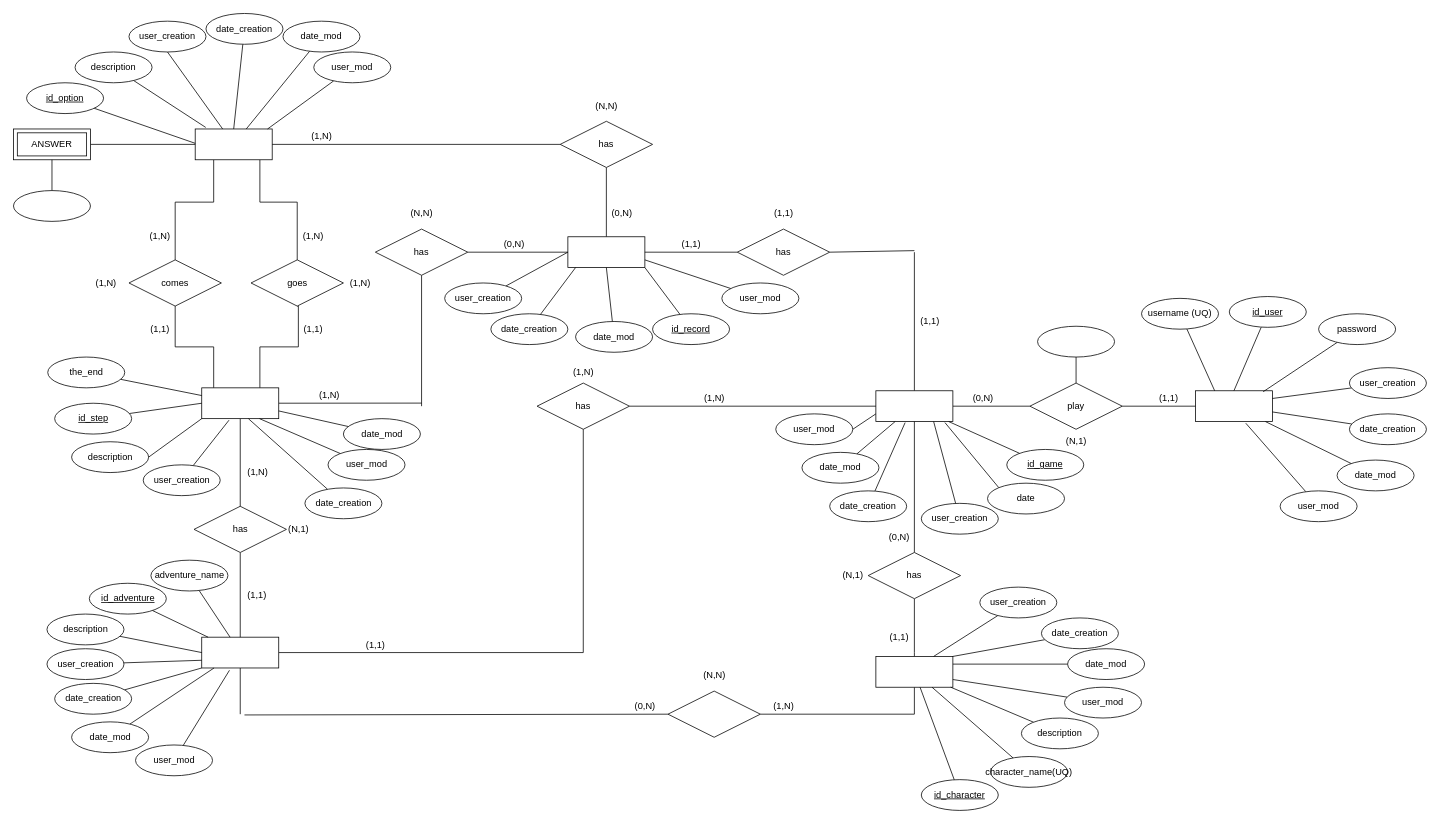
This 1440x824 diagram has some shape labels left out. Each missing label, with the box of its shape:
ADVENTURE: (201, 636, 279, 668)
CHARACTER: (875, 656, 953, 687)
GAME: (875, 390, 953, 422)
game_played: (1037, 325, 1115, 357)
id_answer: (13, 190, 90, 221)
OPTION: (194, 128, 272, 160)
RECORD: (567, 236, 645, 268)
star: (667, 690, 760, 737)
STEP: (201, 387, 279, 419)
USER: (1195, 390, 1272, 422)
